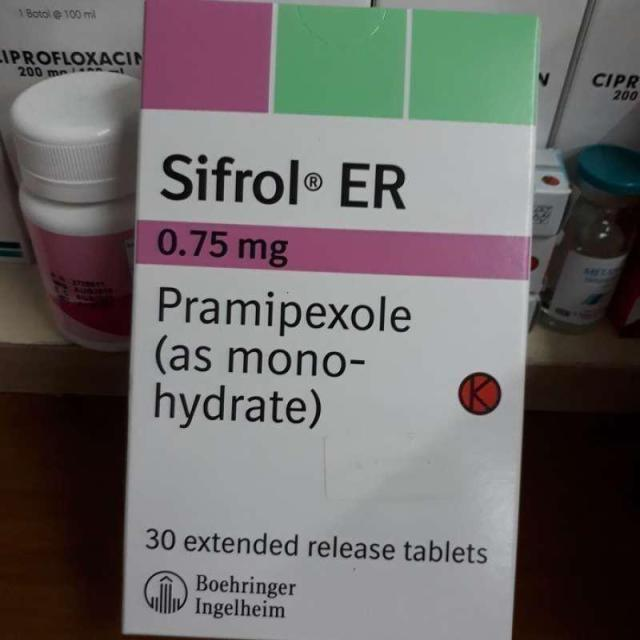drug-name: (161, 146, 411, 218)
